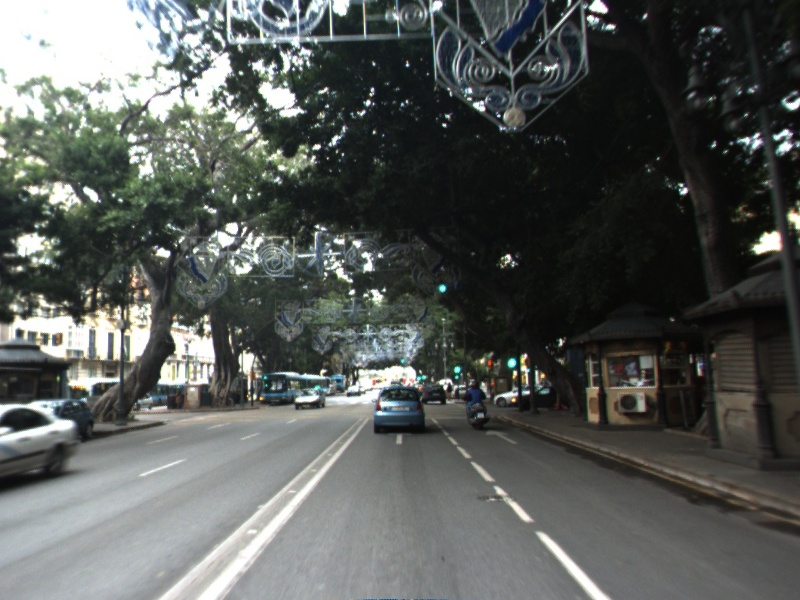STRAIGHT: (483, 427, 521, 446)
